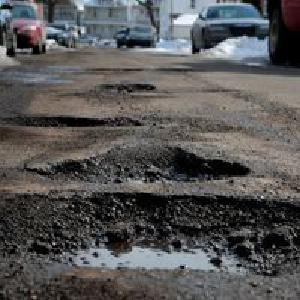Pothole: (0, 191, 299, 286), (21, 143, 251, 185), (1, 111, 146, 128), (93, 80, 156, 95)
